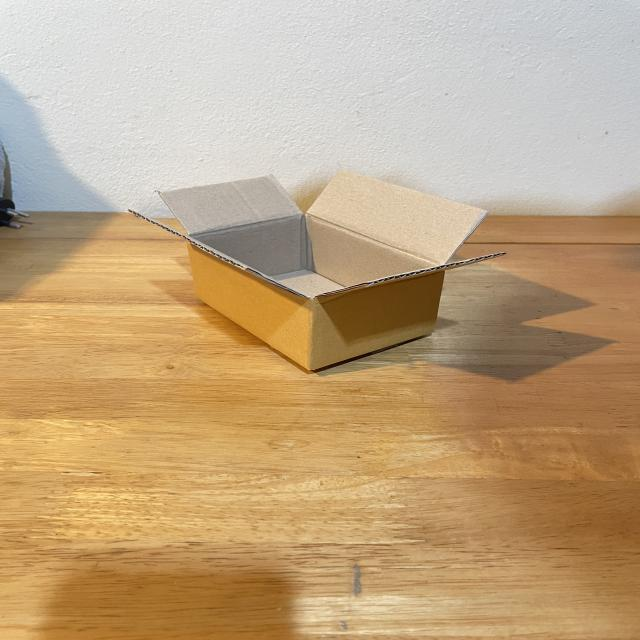box: (128, 168, 508, 372)
opened: (129, 169, 509, 299)
